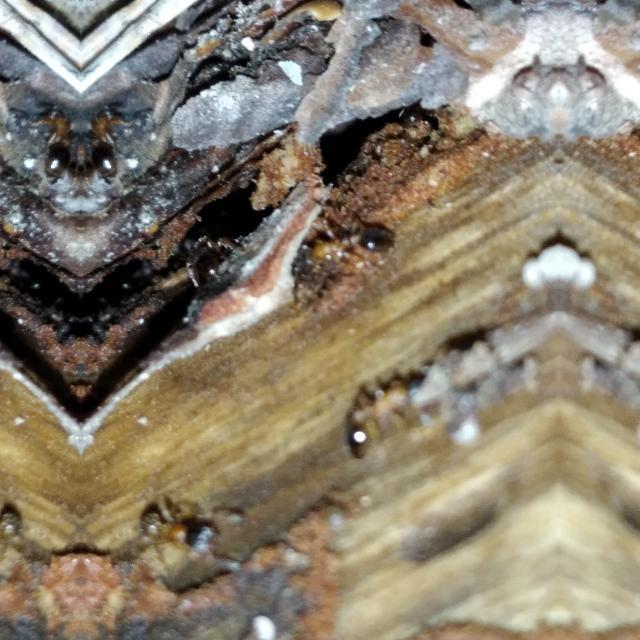Temnothorax: (340, 362, 444, 464), (293, 216, 401, 288), (124, 495, 234, 561), (182, 230, 242, 292), (80, 96, 122, 180), (38, 96, 80, 180), (0, 495, 36, 561)
